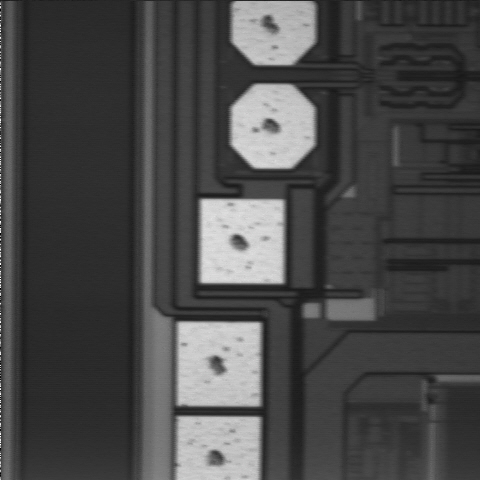pad: (201, 199, 283, 283), (178, 322, 260, 406), (232, 85, 314, 168)
